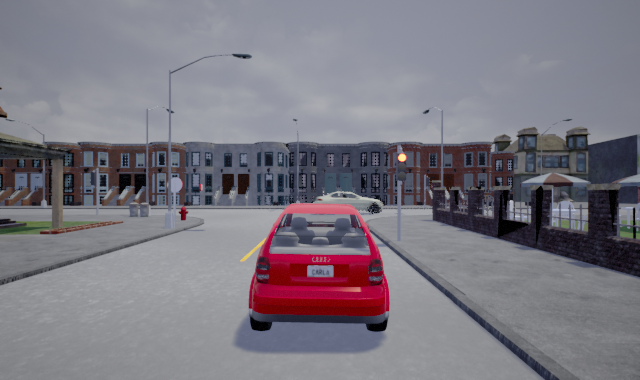vehicle: (246, 202, 392, 333), (313, 191, 385, 215)
